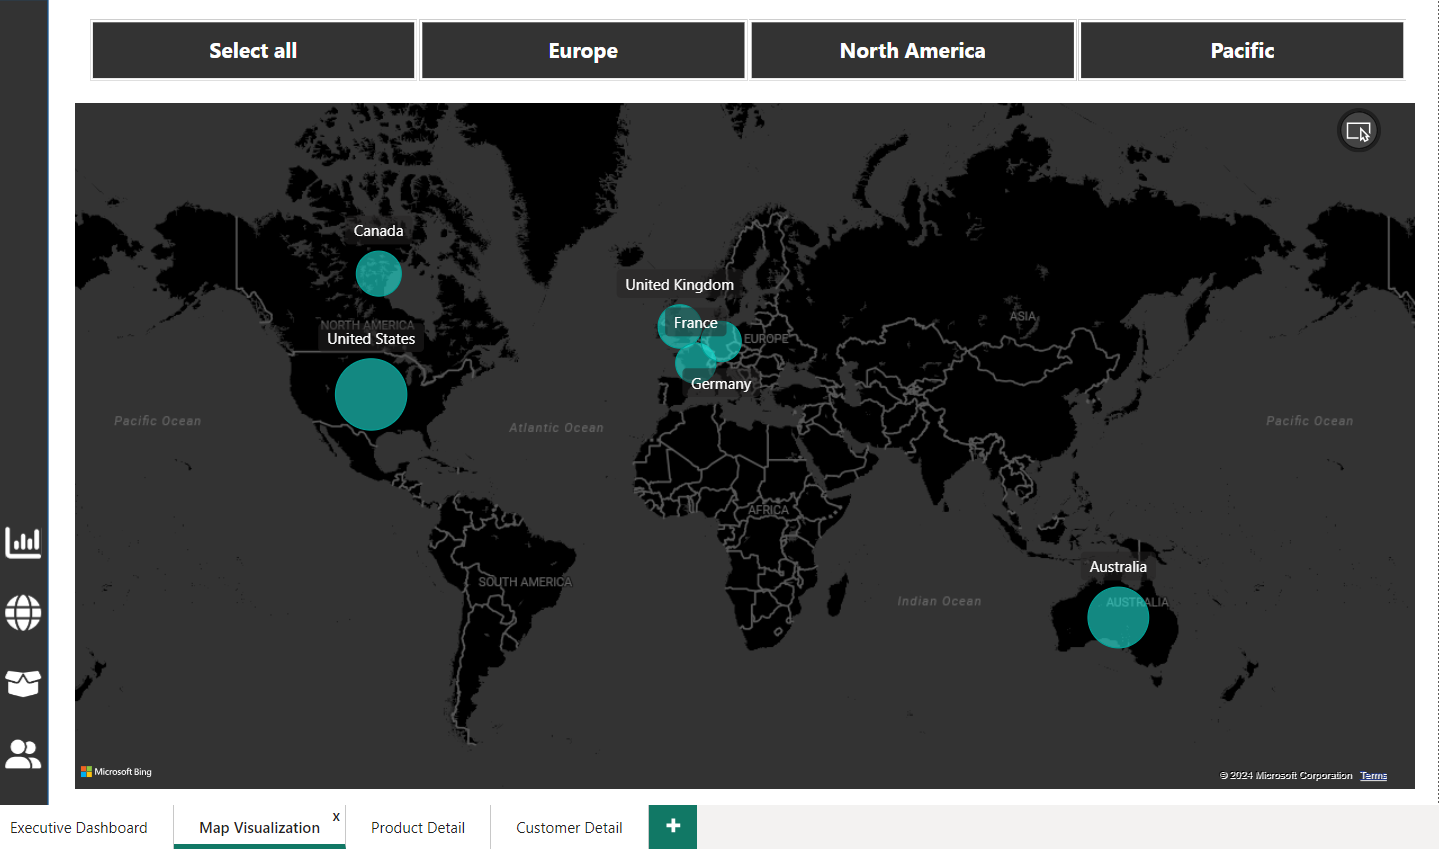

What the dashboard file says about the page in this screenshot:
{"tool":"powerbi","page":{"name":"Map Visualization","canvas":[1280,720],"ordinal":1},"visuals":[{"type":"shape","box":[0,0,45,720],"z":0},{"type":"actionButton","box":[0,463.8,45,40],"z":0,"group":"g1"},{"type":"actionButton","box":[0,526.3,45,40],"z":1000,"group":"g1"},{"type":"map","fields":{"Category":["Territory Lookup.Country"],"Size":["Measure Table.Total Orders"]},"box":[63.8,87.5,1201.2,618.8],"z":1000},{"type":"slicer","fields":{"Values":["Territory Lookup.Continent"]},"box":[55,11.2,1220,68.8],"z":2000},{"type":"actionButton","box":[0,588.8,45,40],"z":2000,"group":"g1"},{"type":"actionButton","box":[0,651.3,45,40],"z":3000,"group":"g1"},{"type":"group","id":"g1","title":"Navigation Buttons","box":[0,463.8,45,227.5],"z":3000}]}

Visuals, with their boxes on the page's 1280x720 design canvas (x1, y1, x2, y2). These are canvas units, not pixel positions in the 1439x849 screenshot, which may show the page scaled, cropped or inside an application window:
shape: region(0, 0, 45, 720)
actionButton: region(0, 464, 45, 504)
actionButton: region(0, 526, 45, 566)
map - Territory Lookup.Country x Measure Table.Total Orders: region(64, 88, 1265, 706)
slicer - Territory Lookup.Continent: region(55, 11, 1275, 80)
actionButton: region(0, 589, 45, 629)
actionButton: region(0, 651, 45, 691)
"Navigation Buttons" group: region(0, 464, 45, 691)
